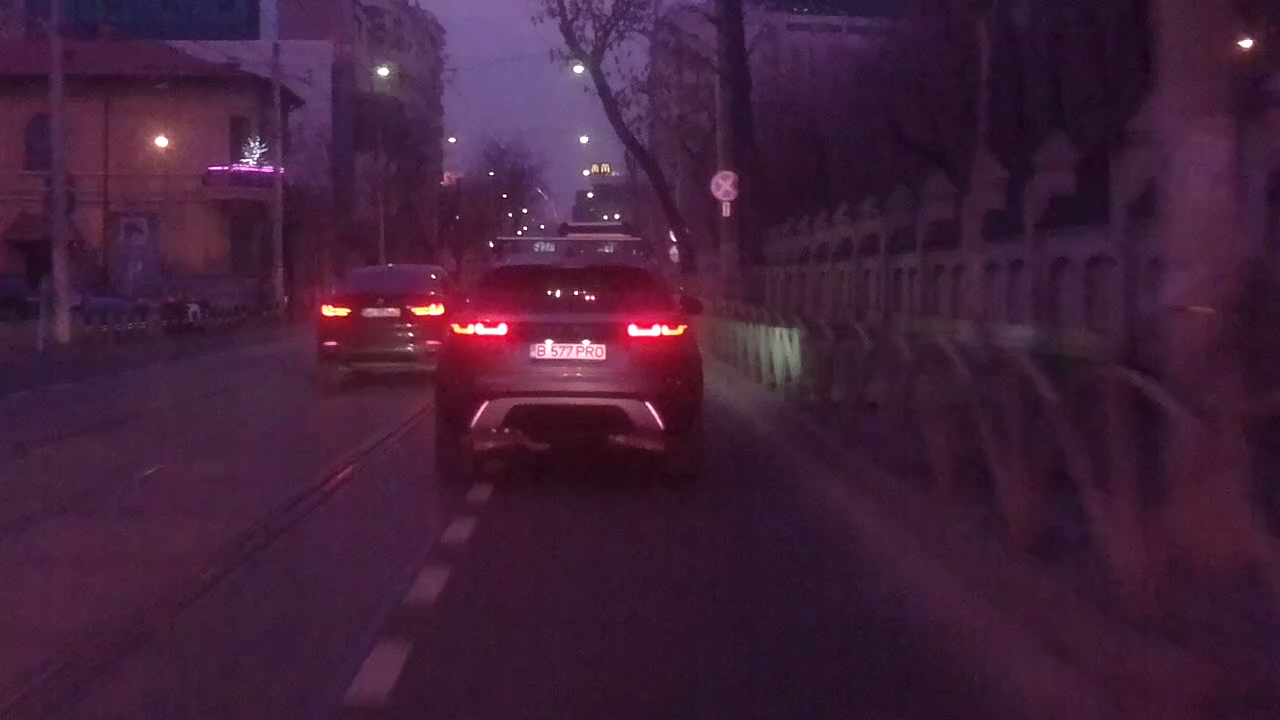license-plate: (525, 339, 609, 362)
